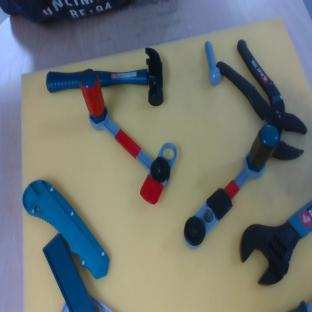non_pass: (171, 120, 291, 251)
pass: (49, 60, 194, 206)
